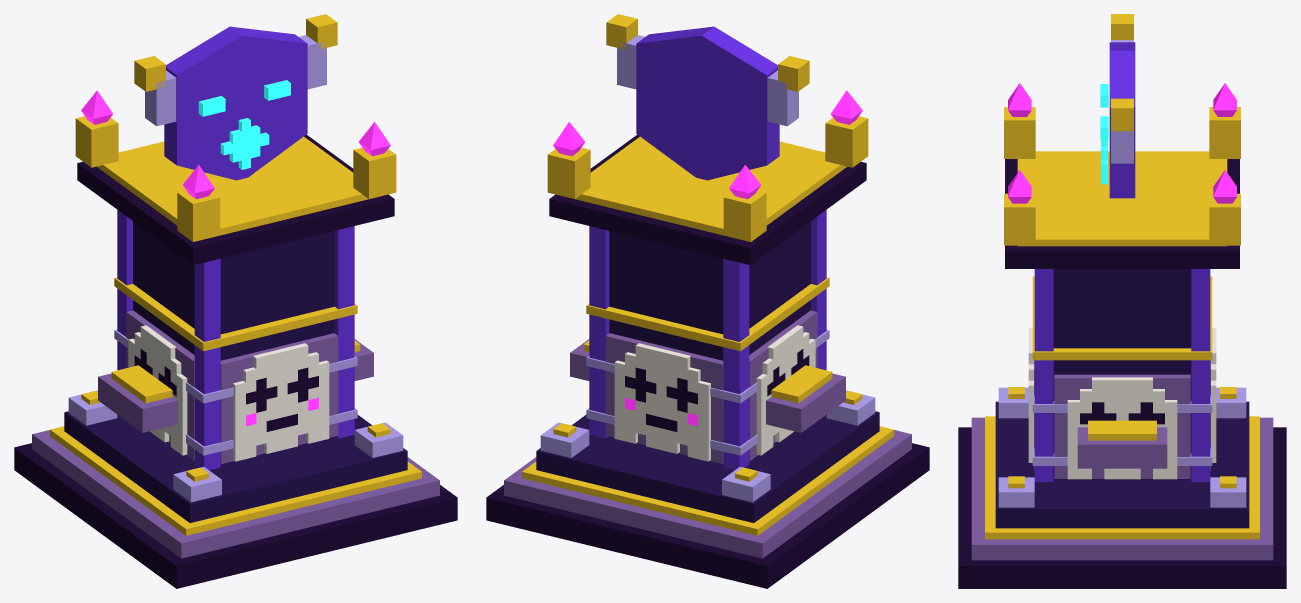
File: guardian-tier-3.glb
3 views of the same model, side by side, from view 1: azimuth 30°, elevation 25°; view 2: azimuth 150°, elevation 25°; view 3: azimuth 270°, elevation 25° (orthographic).
Visible parts, largest first — view 1: base-deep, base-gold, base-ink, base-stone, crown-purple, base-cream, base-purple, base-lavender, crown-teal, crown-lavender, base-pink, crown-gold; view 2: base-deep, base-gold, base-ink, base-stone, crown-purple, base-cream, base-purple, base-lavender, crown-lavender, base-pink, crown-gold; view 3: base-gold, base-deep, base-ink, base-stone, base-purple, base-cream, base-lavender, crown-purple, base-pink, crown-gold, crown-lavender, crown-teal.
Part boxes in pixels (x1=…): base-deep: x1=64, y1=221, x2=407, y2=522; base-gold: x1=50, y1=116, x2=421, y2=535; base-ink: x1=14, y1=134, x2=457, y2=588; base-stone: x1=32, y1=310, x2=439, y2=558; crown-purple: x1=164, y1=26, x2=307, y2=180; base-cream: x1=128, y1=325, x2=329, y2=461; base-purple: x1=117, y1=210, x2=354, y2=469; base-lavender: x1=68, y1=330, x2=403, y2=502; crown-teal: x1=198, y1=80, x2=290, y2=169; crown-lavender: x1=145, y1=35, x2=326, y2=126; base-pink: x1=81, y1=90, x2=390, y2=426; crown-gold: x1=134, y1=14, x2=337, y2=91; base-deep: x1=536, y1=221, x2=879, y2=522; base-gold: x1=522, y1=116, x2=893, y2=535; base-ink: x1=486, y1=134, x2=929, y2=588; base-stone: x1=504, y1=310, x2=911, y2=558; crown-purple: x1=636, y1=26, x2=779, y2=180; base-cream: x1=614, y1=325, x2=815, y2=461; base-purple: x1=589, y1=210, x2=826, y2=469; base-lavender: x1=540, y1=330, x2=875, y2=502; crown-lavender: x1=617, y1=35, x2=798, y2=126; base-pink: x1=553, y1=90, x2=862, y2=426; crown-gold: x1=606, y1=14, x2=809, y2=91; base-gold: x1=985, y1=107, x2=1259, y2=539; base-deep: x1=995, y1=269, x2=1249, y2=528; base-ink: x1=958, y1=159, x2=1286, y2=588; base-stone: x1=971, y1=360, x2=1273, y2=560; base-purple: x1=1034, y1=269, x2=1210, y2=481; base-cream: x1=1028, y1=327, x2=1216, y2=479; base-lavender: x1=998, y1=387, x2=1246, y2=507; crown-purple: x1=1109, y1=42, x2=1135, y2=198; base-pink: x1=1008, y1=83, x2=1236, y2=203; crown-gold: x1=1111, y1=14, x2=1133, y2=131; crown-lavender: x1=1111, y1=40, x2=1133, y2=163; crown-teal: x1=1100, y1=84, x2=1108, y2=184.
Size of the model in its own units: 3.1 by 4.89 by 3.1.
